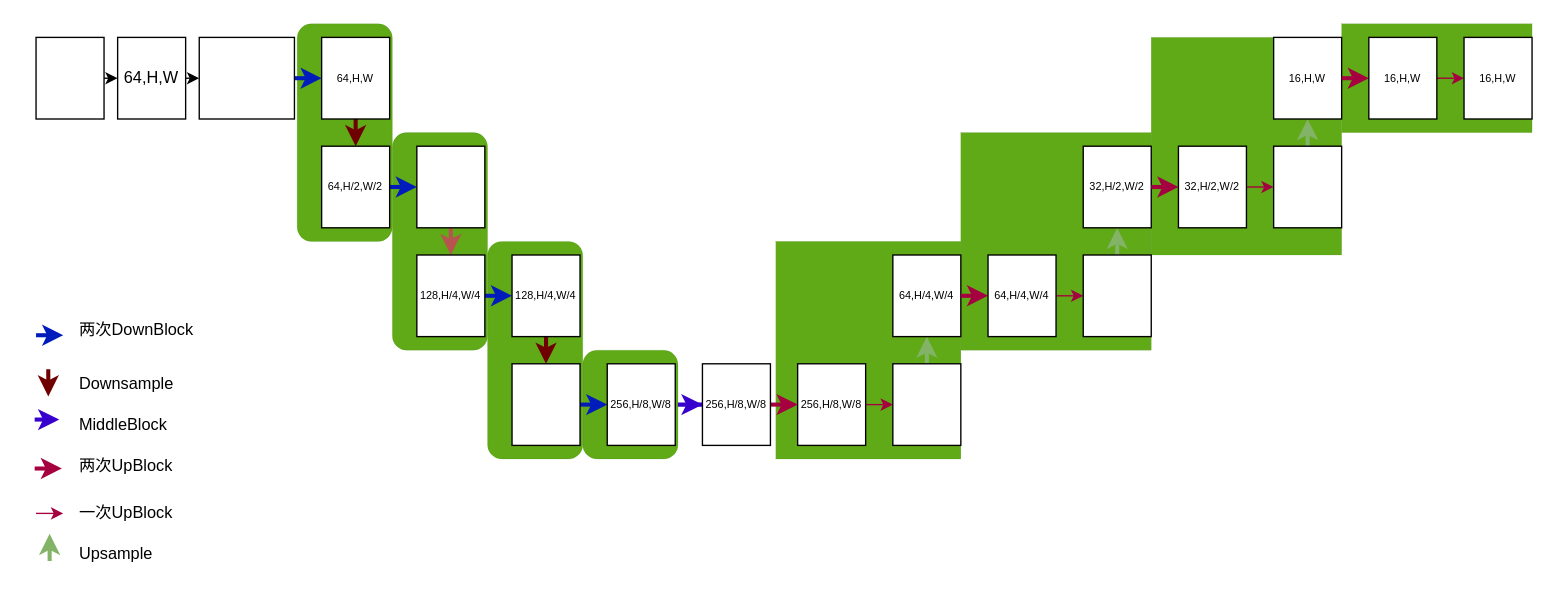
This 1556x597 diagram has some shape labels left out. The centre of each missing label's shape, as x and y in pixels:
"128,H/2,W/2" goes at (x=450, y=186).
"128,H/8,W/8" goes at (x=545, y=403).
"16,H/2,W/2" goes at (x=1307, y=186).
"3,H,W" goes at (x=69, y=77).
"32,H/4,W/4" goes at (x=1116, y=295).
"64,H/8,W/8" goes at (x=926, y=403).
"time_emb n_channel*4" goes at (x=246, y=77).
